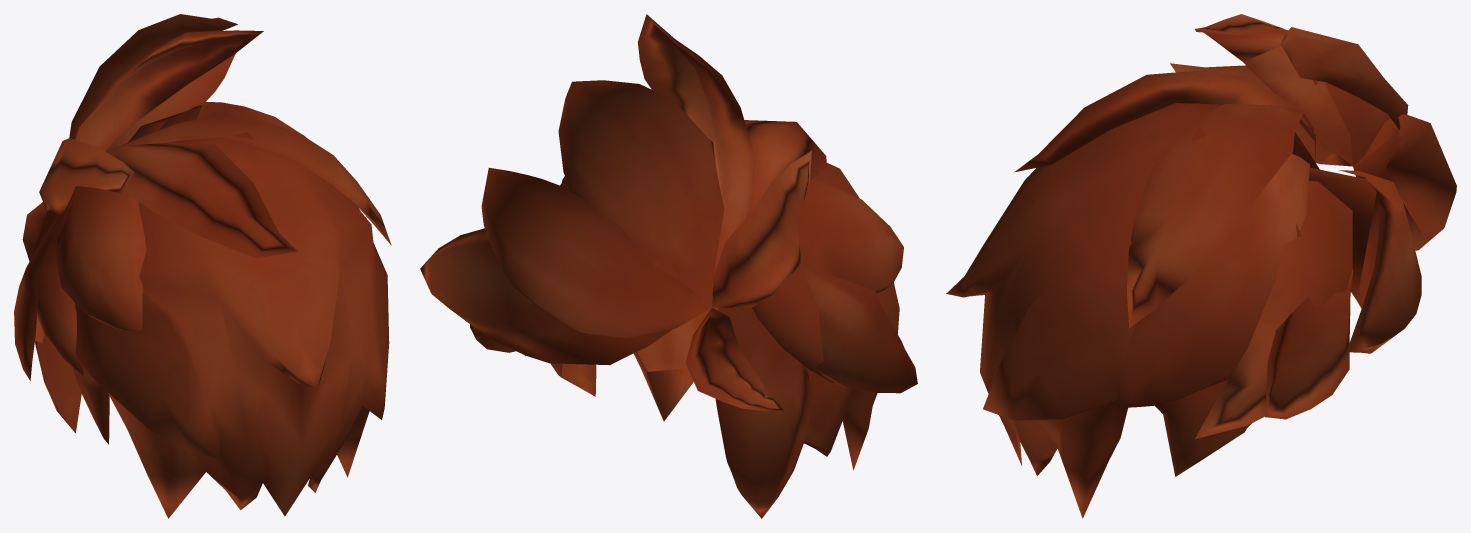
The model's file is Head.fbx.
3 views of the same model, side by side, from view 1: azimuth 30°, elevation 25°; view 2: azimuth 150°, elevation 25°; view 3: azimuth 270°, elevation 25° (orthographic). The views are drawn at different scales.
Parts seen in each view (by area): view 1: Hair05; view 2: Hair05; view 3: Hair05.
Part boxes in pixels (bbox=[...]): Hair05: bbox=[14, 14, 391, 518]; Hair05: bbox=[420, 14, 917, 518]; Hair05: bbox=[946, 14, 1456, 518].
Bounding box in the file's own units: 1.97 × 2.05 × 2.02.
